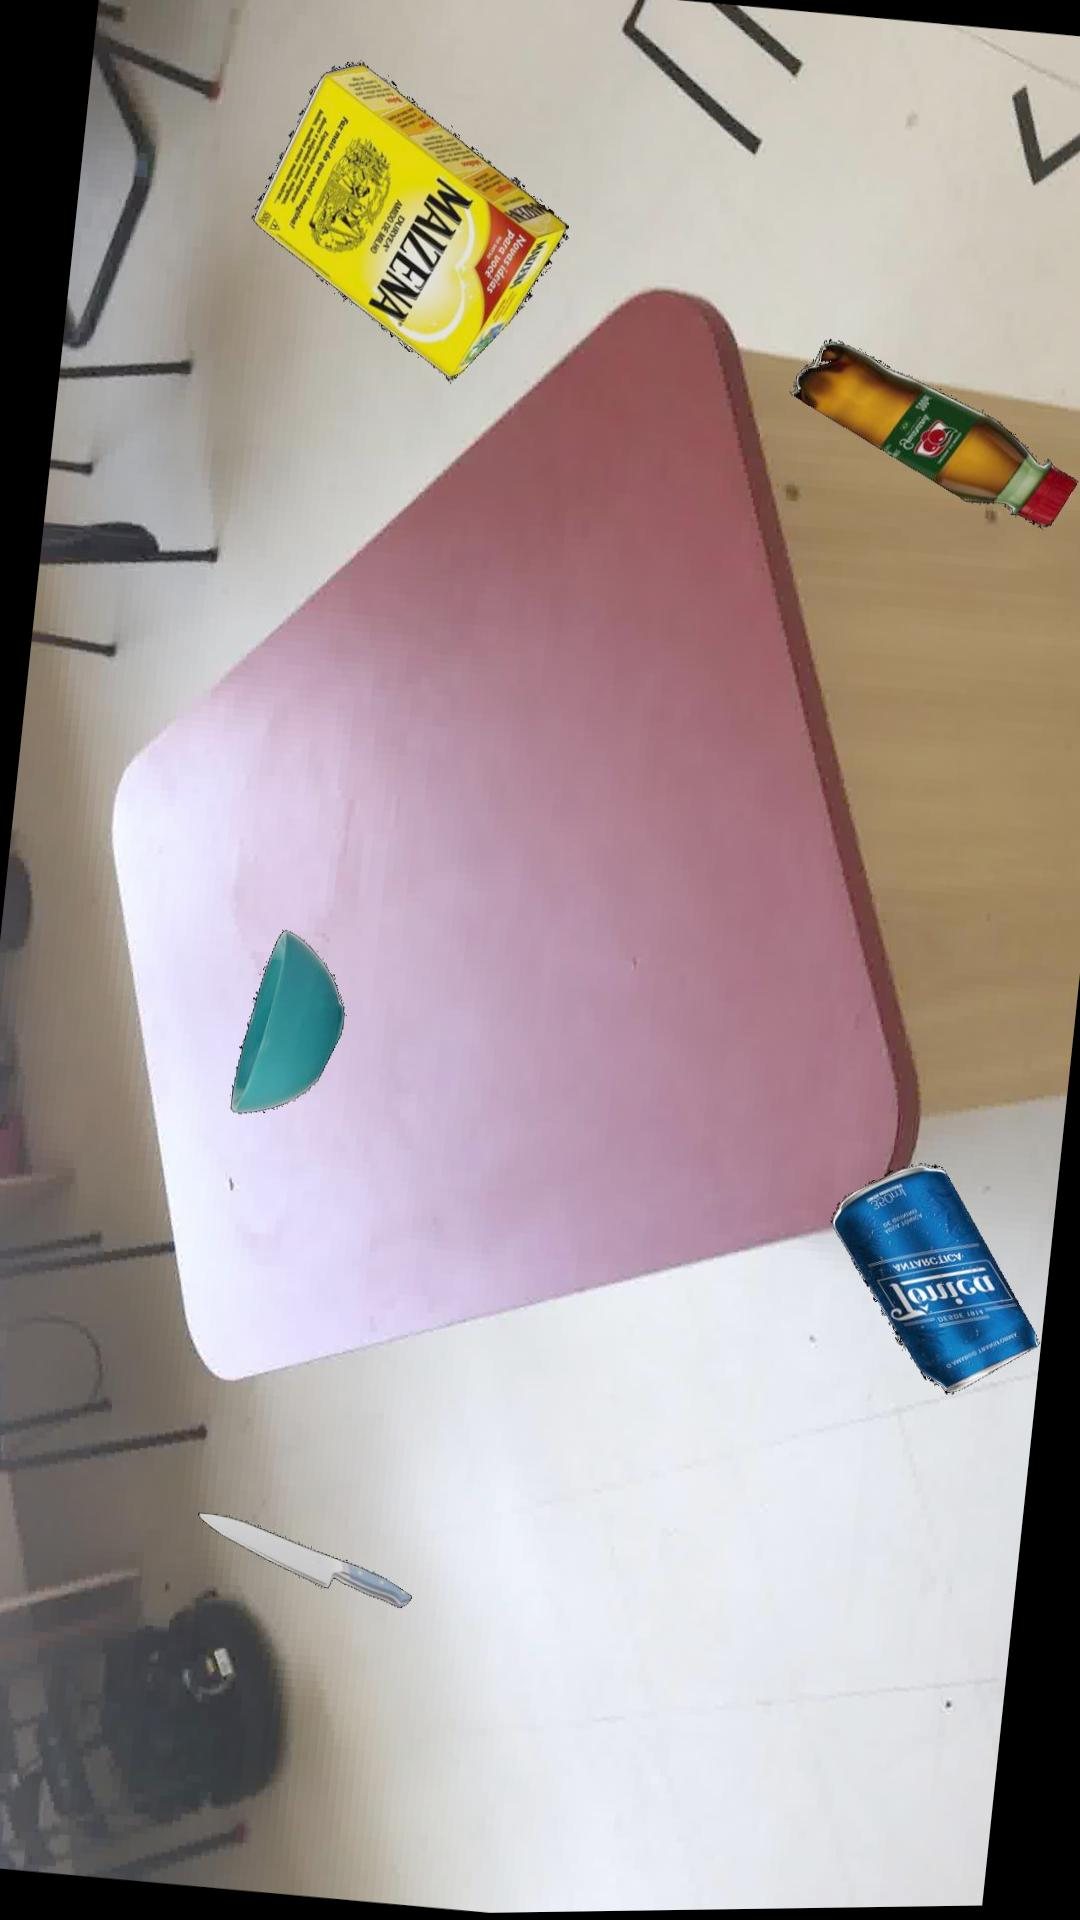bowl: (231, 928, 345, 1112)
guarana: (791, 339, 1079, 530)
knife: (199, 1511, 413, 1607)
tonic: (831, 1166, 1039, 1395)
